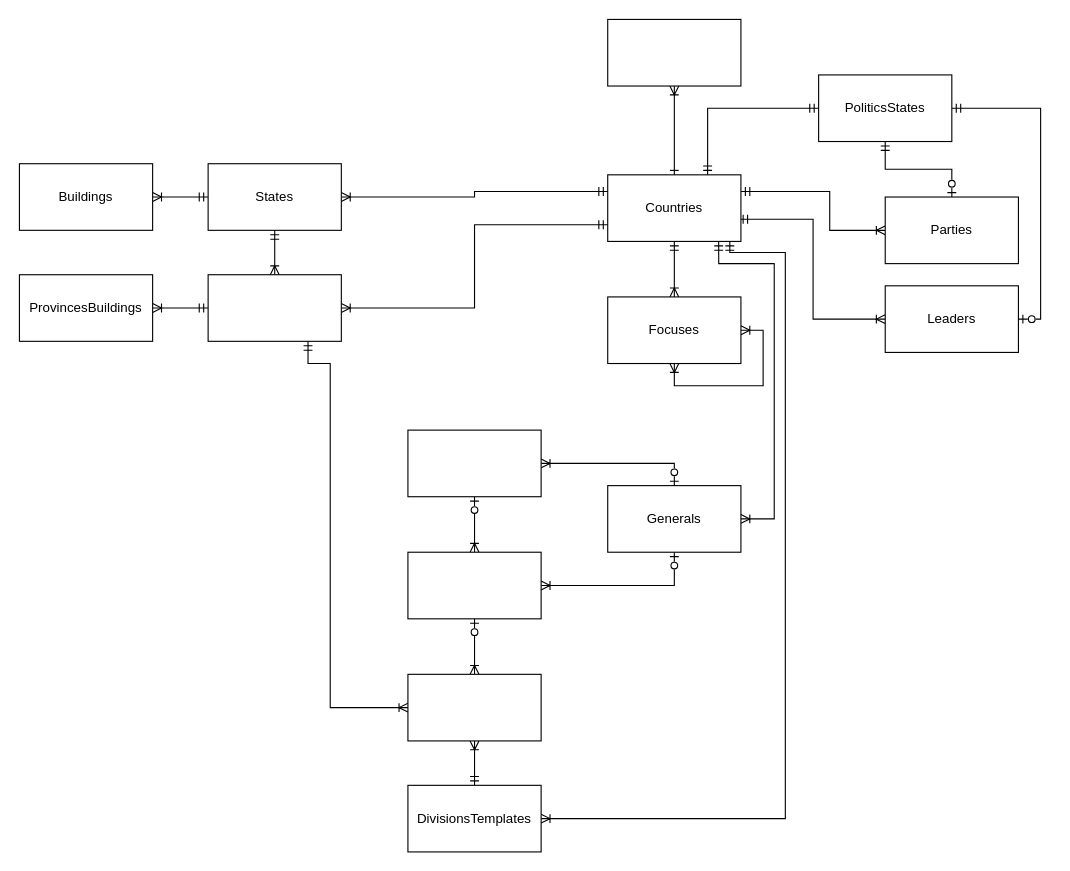
This 1070x871 diagram has some shape labels left out. Each missing label, with the box of its shape:
Armies: (407, 551, 541, 619)
ArmiesGroups: (407, 429, 541, 497)
DiplomacyStates: (607, 18, 741, 86)
Divisions: (407, 673, 541, 741)
Provinces: (207, 274, 341, 341)
